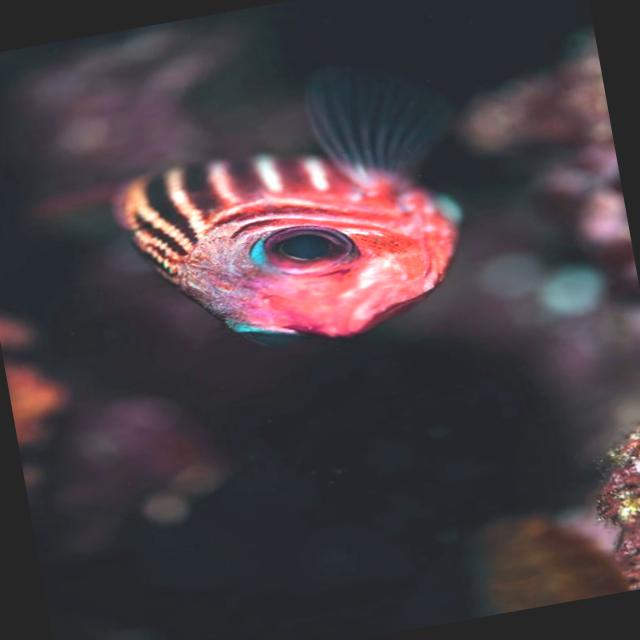Asker Baligi: (45, 69, 482, 394)
